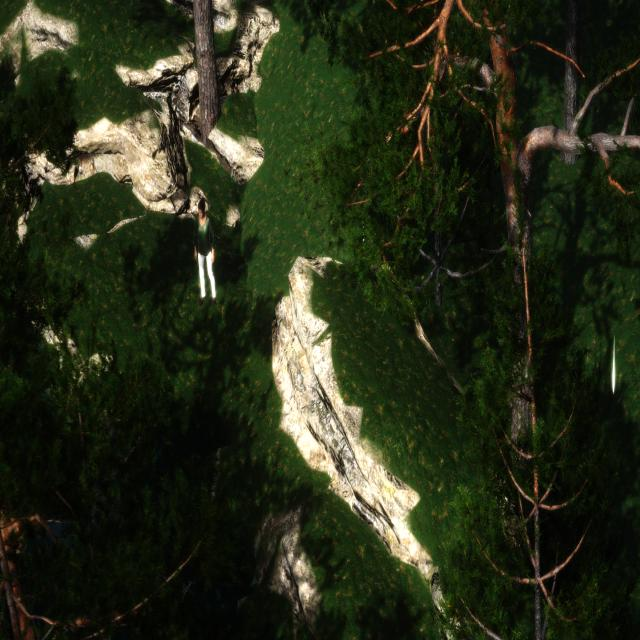Human: (188, 194, 219, 310)
